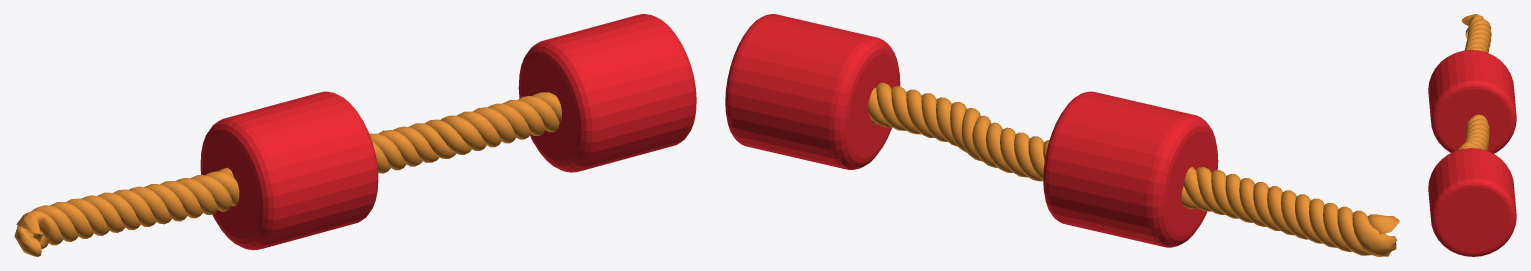
The model's file is bouyline.fbx.
3 renders of one model, left to right at view 1: azimuth 30°, elevation 25°; view 2: azimuth 150°, elevation 25°; view 3: azimuth 270°, elevation 25°, orthographic. The views are drawn at different scales.
Parts seen in each view (by area): view 1: Cylinder, Cylinder.001, Circle; view 2: Cylinder.001, Cylinder, Circle; view 3: Cylinder.001, Cylinder, Circle.
Boxes of the visible parts, bbox=[...] form: Cylinder: bbox=[200, 91, 378, 250]; Cylinder.001: bbox=[518, 14, 696, 172]; Circle: bbox=[14, 92, 561, 256]; Cylinder.001: bbox=[725, 14, 900, 169]; Cylinder: bbox=[1043, 91, 1218, 247]; Circle: bbox=[868, 82, 1399, 256]; Cylinder.001: bbox=[1428, 148, 1516, 256]; Cylinder: bbox=[1428, 50, 1516, 153]; Circle: bbox=[1458, 14, 1491, 150].
Bounding box in the file's own units: 1640 × 302 × 309.
